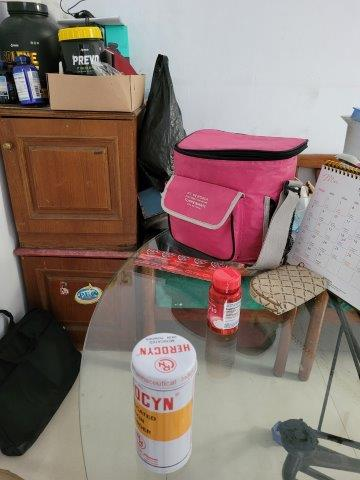kaleng: (132, 334, 198, 468)
